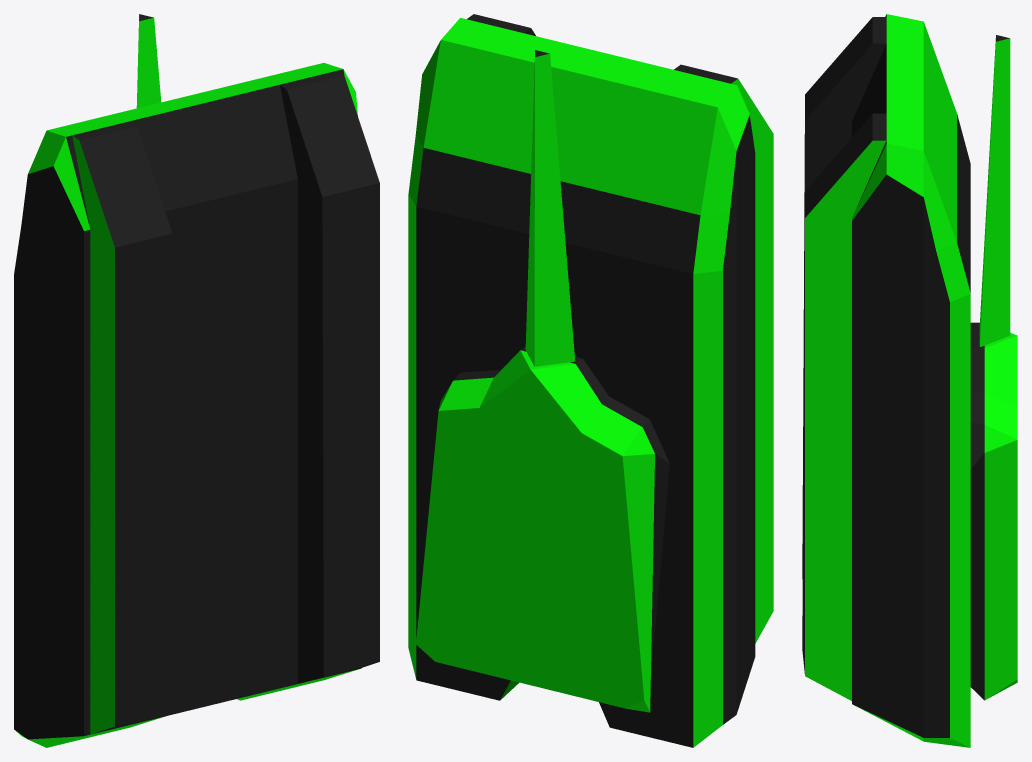
File: Tank_2.fbx
3 renders of one model, left to right at view 1: azimuth 30°, elevation 25°; view 2: azimuth 150°, elevation 25°; view 3: azimuth 270°, elevation 25°, orthographic. The views are drawn at different scales.
Visible parts, largest first — view 1: Hull, Barrel; view 2: Hull, Turret, Barrel; view 3: Hull, Turret, Barrel.
Boxes of the visible parts, left/top/right/bottom form: Hull: left=14, top=63, right=379, bottom=747; Barrel: left=136, top=14, right=161, bottom=108; Hull: left=408, top=14, right=773, bottom=747; Turret: left=416, top=346, right=669, bottom=712; Barrel: left=525, top=50, right=575, bottom=366; Hull: left=802, top=14, right=970, bottom=747; Turret: left=970, top=322, right=1017, bottom=700; Barrel: left=979, top=35, right=1010, bottom=346.
Bounding box in the file's own units: 2016 × 4120 × 1248.
